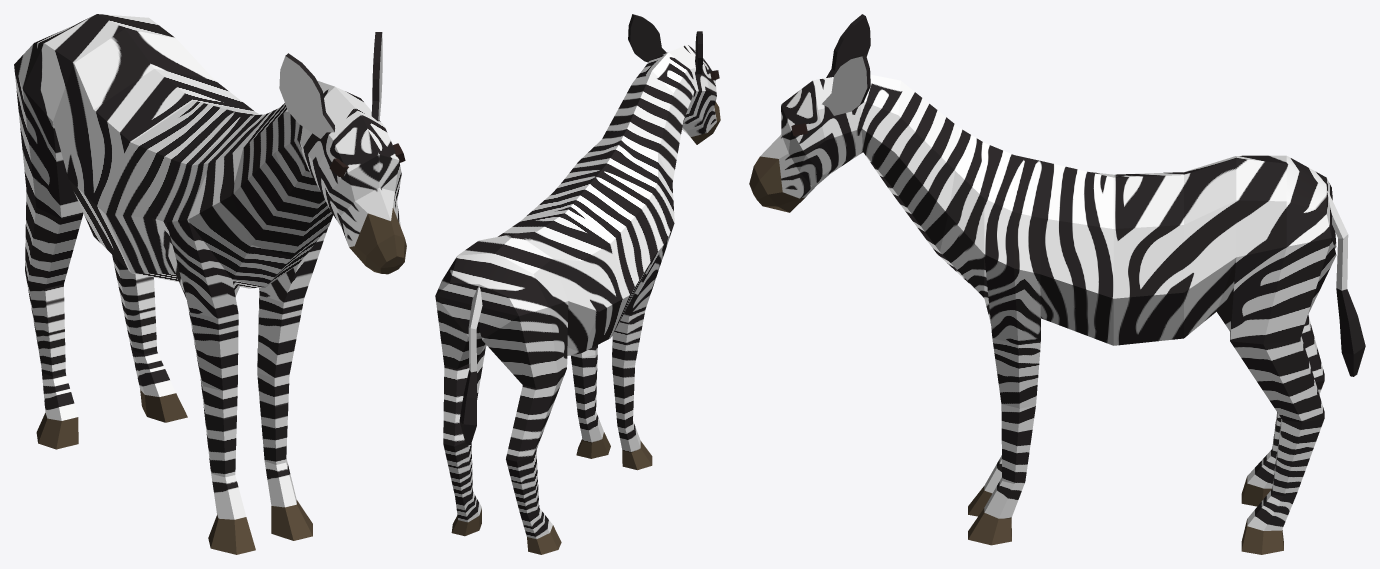
3 renders of one model, left to right at view 1: azimuth 30°, elevation 25°; view 2: azimuth 150°, elevation 25°; view 3: azimuth 270°, elevation 25°, orthographic. The views are drawn at different scales.
Visible parts, largest first — view 1: Geo_Zebra; view 2: Geo_Zebra; view 3: Geo_Zebra.
Boxes of the visible parts, left/top/right/bottom form: Geo_Zebra: left=14, top=14, right=406, bottom=554; Geo_Zebra: left=435, top=14, right=720, bottom=554; Geo_Zebra: left=749, top=14, right=1365, bottom=554.
Bounding box in the file's own units: 40.07 × 119 × 136.
1 material, 1 textured.
